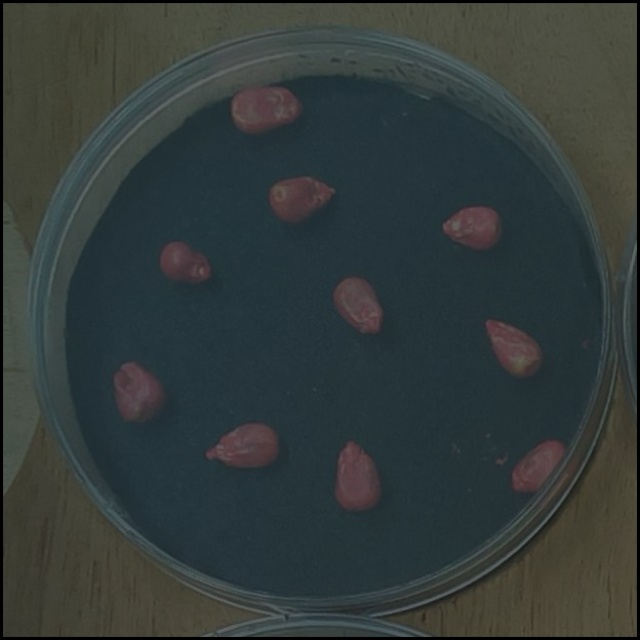Zea mays: (327, 433, 389, 520), (224, 79, 309, 141), (477, 313, 549, 385), (200, 415, 286, 475), (263, 171, 343, 231), (106, 356, 172, 428), (326, 270, 392, 341), (506, 432, 572, 501), (435, 199, 512, 257), (154, 235, 218, 294)
